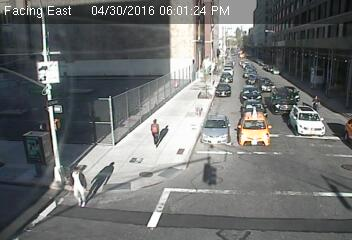neg: (87, 154, 122, 200), (196, 159, 227, 201), (150, 186, 173, 217), (22, 104, 40, 128), (131, 201, 148, 224), (162, 124, 173, 139)
pos: (60, 162, 95, 210), (141, 115, 166, 148)
